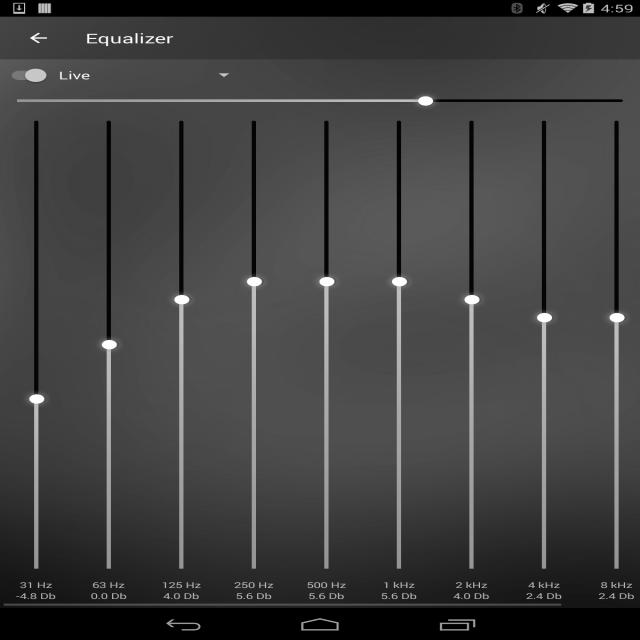CheckedTextView: (50, 59, 99, 92)
ImageButton: (9, 17, 68, 59)
SeekBar: (0, 110, 73, 579), (145, 110, 218, 579), (290, 110, 363, 579), (435, 110, 508, 579), (73, 110, 145, 579), (218, 110, 290, 579), (363, 110, 435, 579), (508, 110, 580, 579), (580, 110, 640, 579), (0, 91, 640, 110)
Spinner: (50, 59, 235, 92)
Switch: (0, 66, 50, 84)
TextView: (85, 29, 174, 47), (16, 590, 56, 602), (163, 590, 200, 602), (308, 590, 345, 602), (453, 590, 490, 602), (598, 590, 635, 602), (91, 590, 127, 602), (236, 590, 272, 602), (381, 590, 417, 602), (526, 590, 562, 602), (234, 580, 274, 590), (162, 580, 201, 590), (307, 580, 346, 590), (92, 580, 125, 590), (20, 580, 52, 590), (383, 580, 415, 590), (456, 580, 488, 590), (528, 580, 560, 590), (600, 580, 632, 590)
